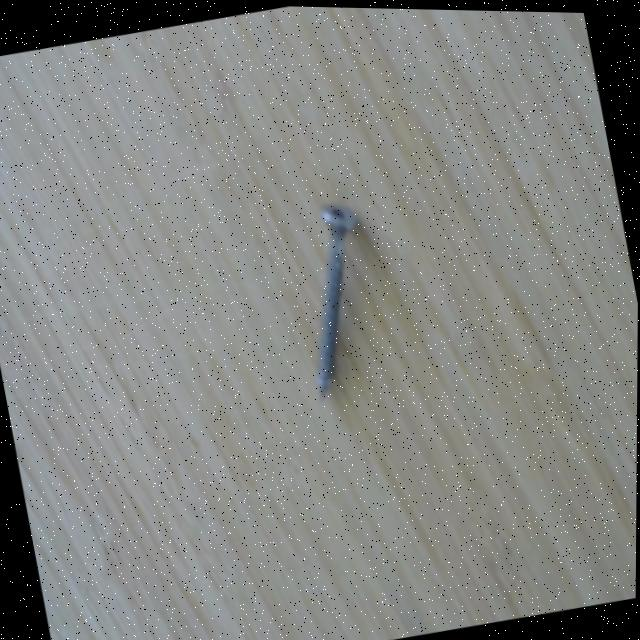Black screw: (311, 196, 365, 411)
